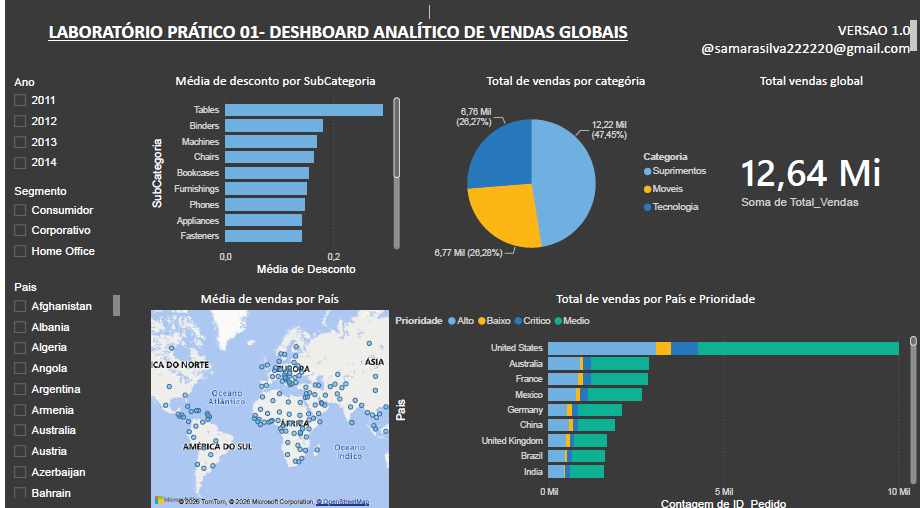

The dashboard page shown, as its layout file describes it:
{"tool":"powerbi","page":{"name":"lab 1","canvas":[1280,720],"ordinal":0},"visuals":[{"type":"cardVisual","title":"Total vendas global","fields":{"Data":["Sum(dataset.Total_Vendas)"]},"box":[995.1,101.8,267,269.8],"z":0},{"type":"pieChart","title":"Total de vendas por categória","fields":{"Y":["Count(dataset.Total_Vendas)"],"Category":["dataset.Categoria"]},"box":[575.3,101.8,419.8,289],"z":1000},{"type":"barChart","title":"Total de vendas por País e Prioridade","fields":{"Category":["dataset.Pais"],"Y":["CountNonNull(dataset.ID_Pedido)"],"Series":["dataset.Prioridade"]},"box":[540.9,407.4,739.1,312.4],"z":2000},{"type":"barChart","title":"Média de desconto por SubCategoria","fields":{"Category":["dataset.SubCategoria"],"Y":["Avg(dataset.Desconto)"]},"box":[199.6,101.8,357.8,289],"z":3000},{"type":"slicer","fields":{"Values":["dataset.Pais"]},"box":[0,389.5,165.2,312.4],"z":4000},{"type":"map","title":"Média de vendas por País","fields":{"Category":["dataset.Pais"]},"box":[199.6,407.4,341.3,312.4],"z":5000},{"type":"slicer","fields":{"Values":["dataset.Segmento"]},"box":[0,254.6,199.6,136.3],"z":6000},{"type":"slicer","fields":{"Values":["dataset.Data_Pedido.Variation.Hierarquia de datas.Ano"]},"box":[0,101.8,150,151.4],"z":7000},{"type":"textbox","box":[0,24.8,931.8,53.7],"z":8000},{"type":"textbox","box":[898.8,24.8,381.2,63.3],"z":9000}]}

Visuals, with their boxes in screenshot pixels (x1, y1, x2, y2), scaled from the page's 1280x720 canvas onto the 921x508 screenshot:
"Total vendas global" cardVisual: <region>716, 72, 908, 262</region>
"Total de vendas por categória" pieChart: <region>414, 72, 716, 276</region>
"Total de vendas por País e Prioridade" barChart: <region>389, 287, 920, 507</region>
"Média de desconto por SubCategoria" barChart: <region>144, 72, 401, 276</region>
slicer - dataset.Pais: <region>0, 275, 119, 495</region>
"Média de vendas por País" map: <region>144, 287, 389, 507</region>
slicer - dataset.Segmento: <region>0, 180, 144, 276</region>
slicer - dataset.Data_Pedido.Variation.Hierarquia de datas.Ano: <region>0, 72, 108, 179</region>
textbox: <region>0, 17, 670, 55</region>
textbox: <region>647, 17, 920, 62</region>
